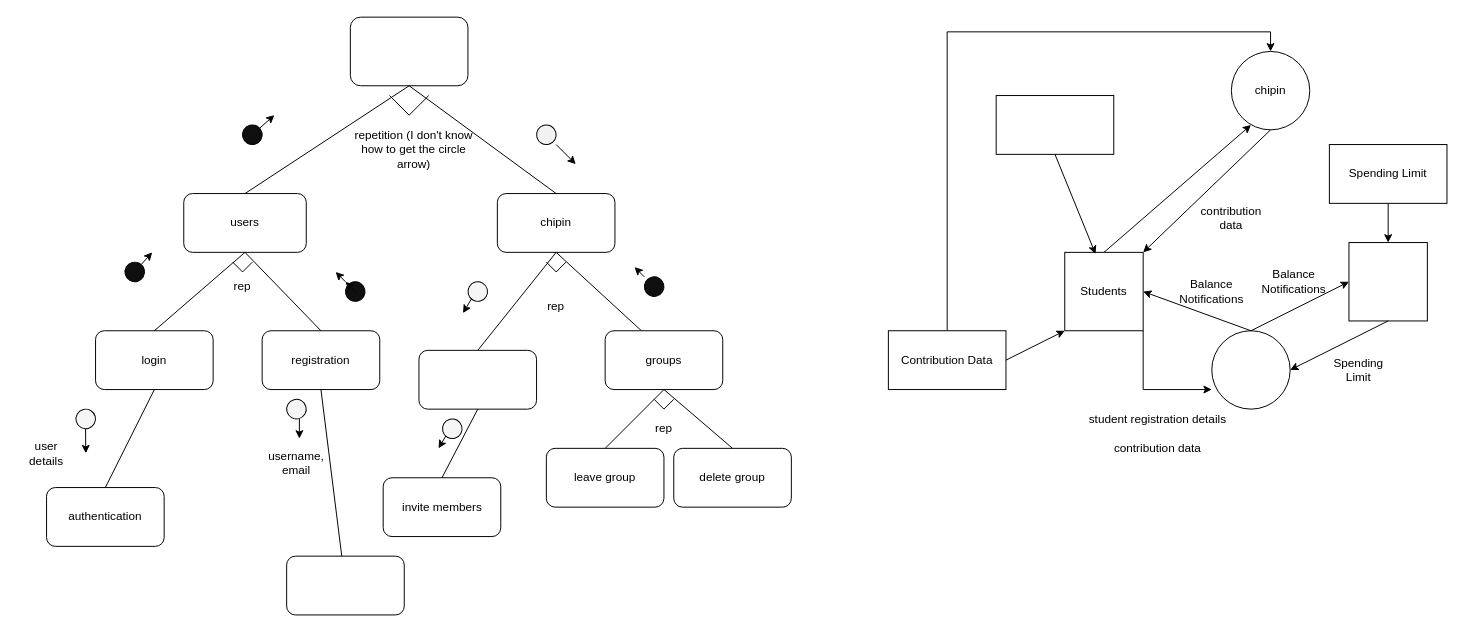
Image size: 1464x632. Some labels were removed from this diagram. The centre of each missing label's shape, as x and y in pixels:
"create group" goes at point (477, 379).
"Event Mangaement" goes at point (1250, 369).
"profile creation" goes at point (345, 585).
"ssa_project" goes at point (408, 51).
"Student Registrion Details" goes at point (1054, 124).
"Trusted Adults" goes at point (1387, 281).
